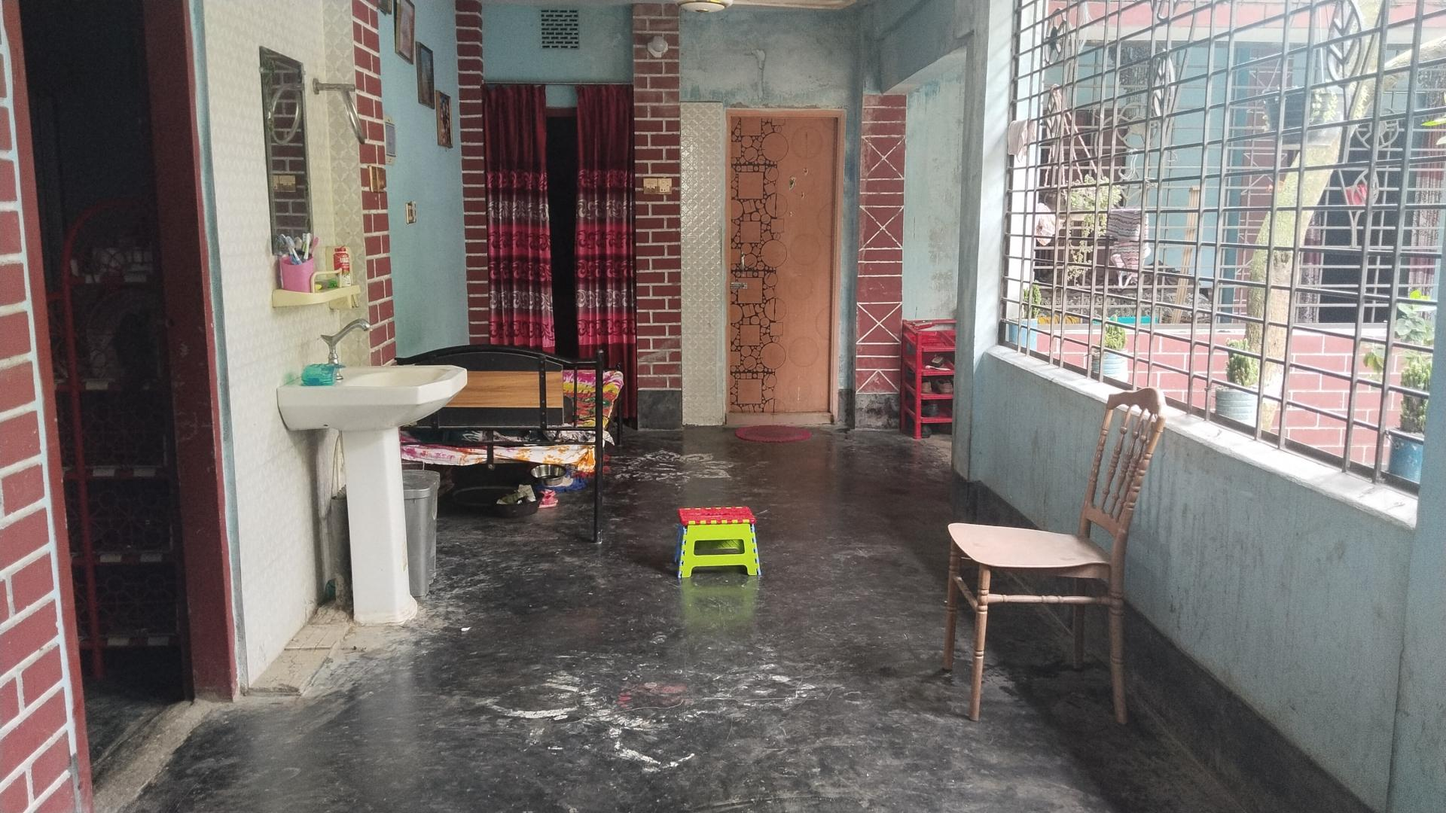Chair: (949, 378, 1169, 742)
Door: (731, 115, 840, 426)
Stool: (674, 503, 769, 580)
